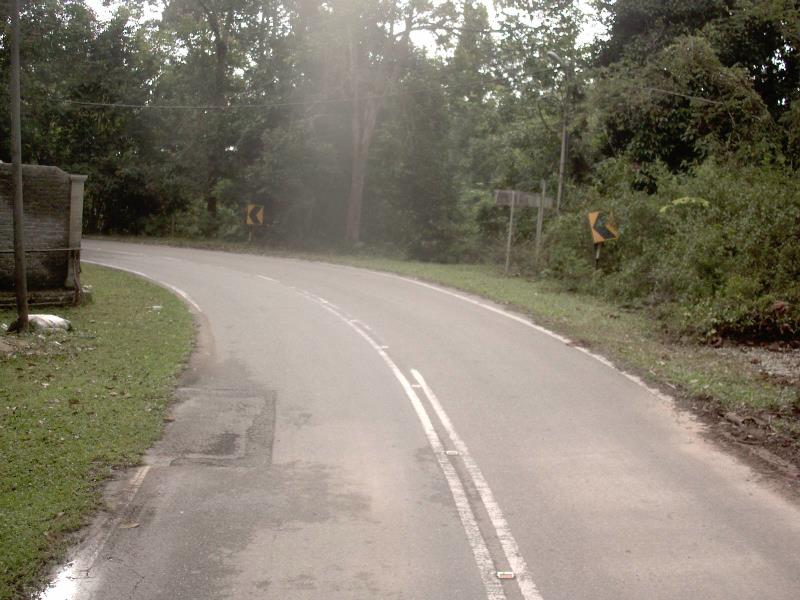traffic_sign: (583, 204, 622, 252)
